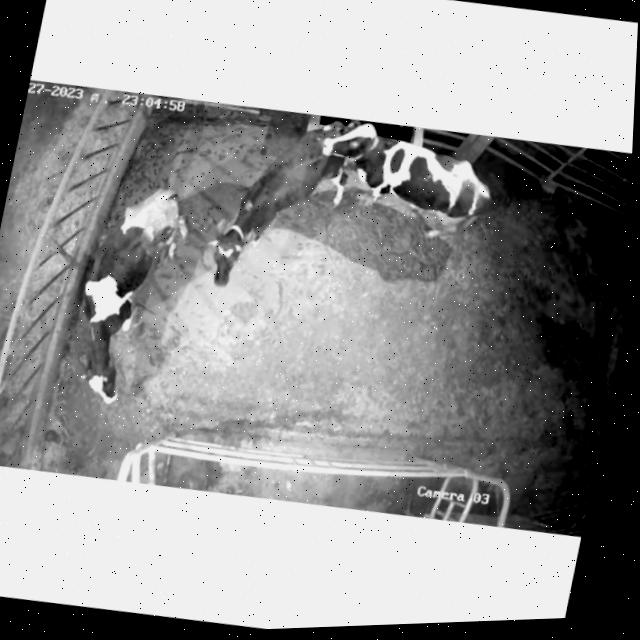propping: (304, 111, 404, 193)
